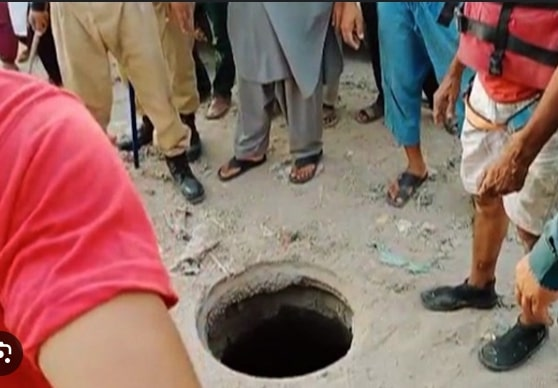open_manhole: (197, 276, 383, 382)
